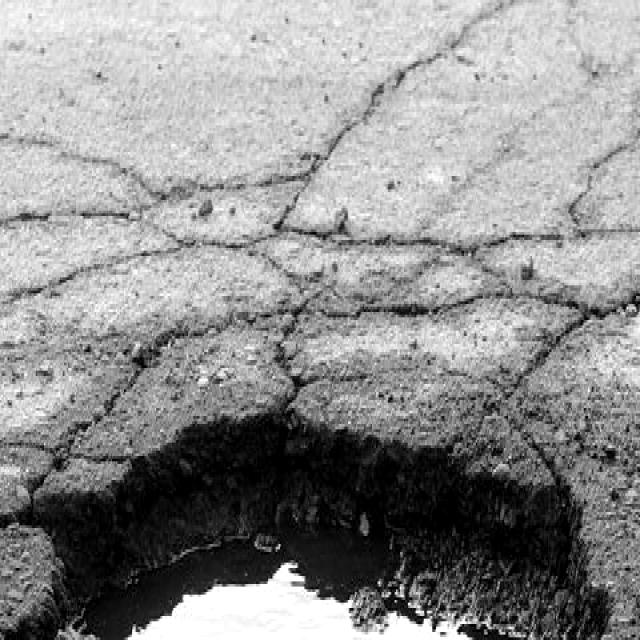pathole: (0, 218, 640, 640)
